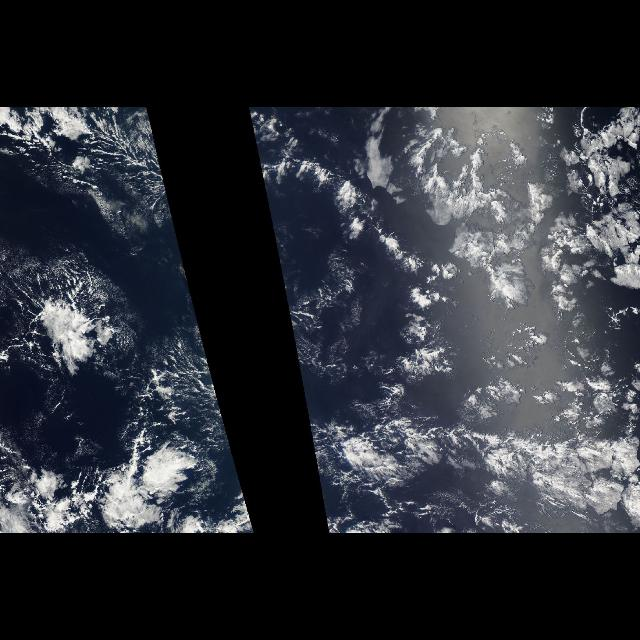Flower: (344, 110, 638, 530)
